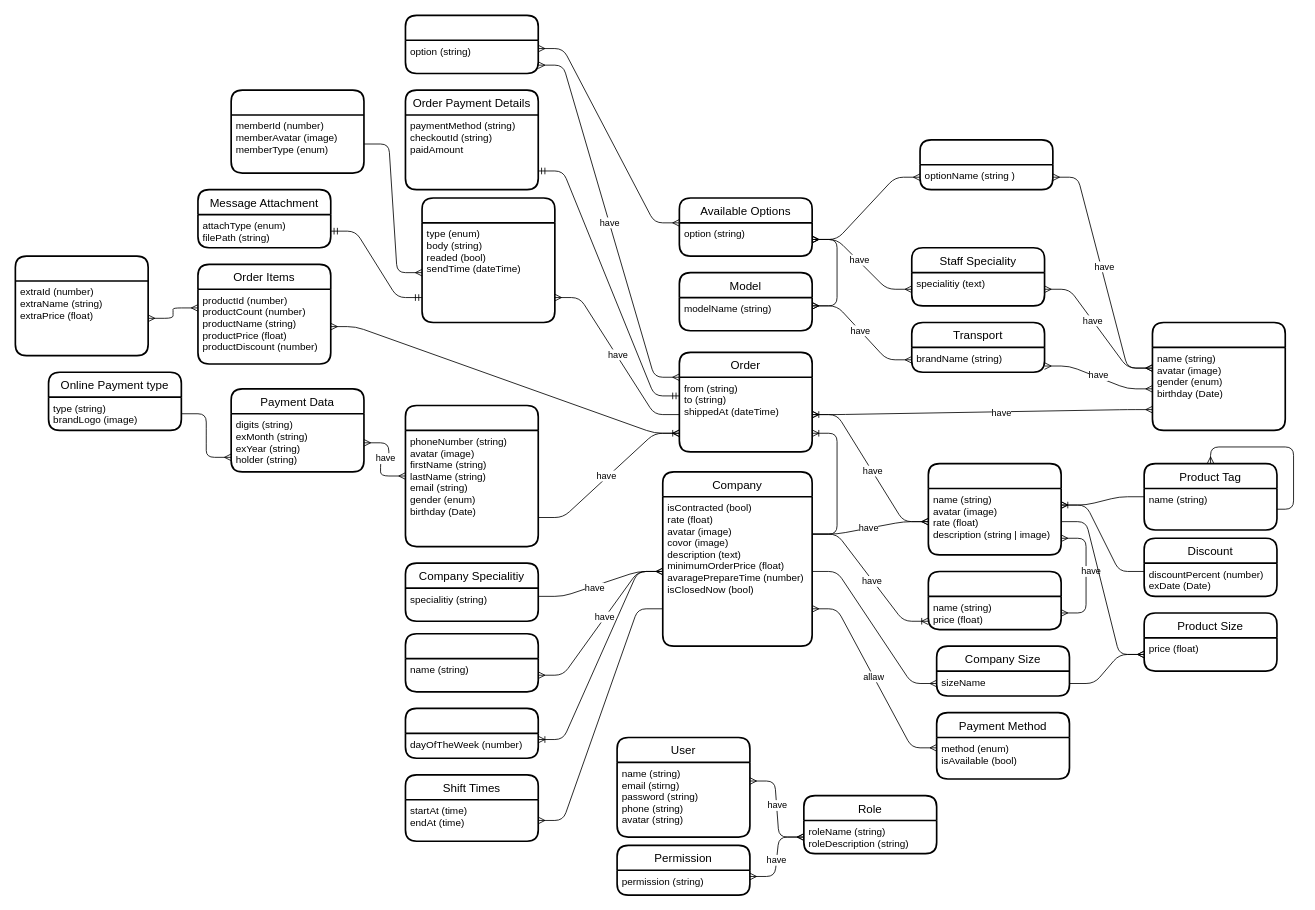
Some shapes in this 1315 by 910 pixel diagram are drawn without their labels. Here are the shapes that lost their labels. From the top down, the box of each, then its label:
(404, 14, 539, 74): Allowed options
(230, 89, 364, 173): Order Member
(919, 139, 1053, 190): Staff selected option
(421, 197, 555, 323): Message
(14, 255, 149, 356): Order Item Extras
(1151, 321, 1286, 431): Staff
(404, 404, 539, 547): Customer
(927, 462, 1062, 555): Product
(927, 570, 1062, 630): Extra
(404, 632, 539, 692): Company Tag
(404, 707, 539, 759): Holidays
